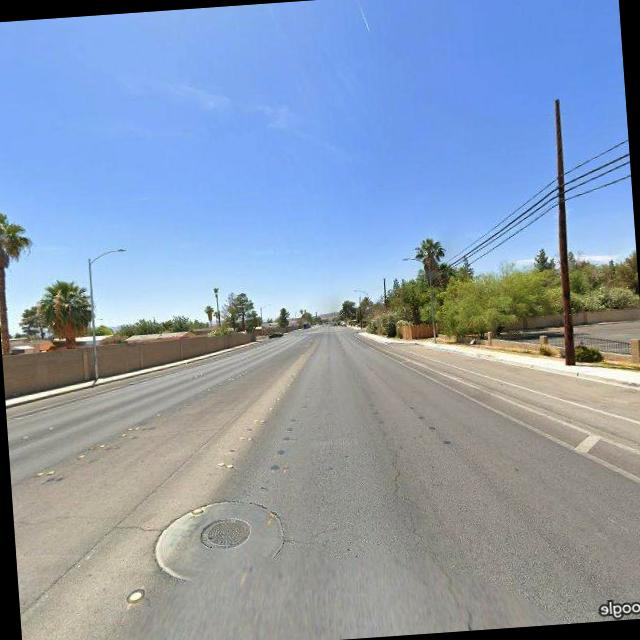crack: (385, 436, 494, 634)
